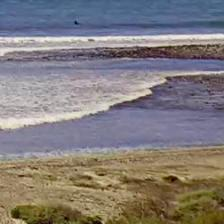surfer: (73, 20, 80, 26)
